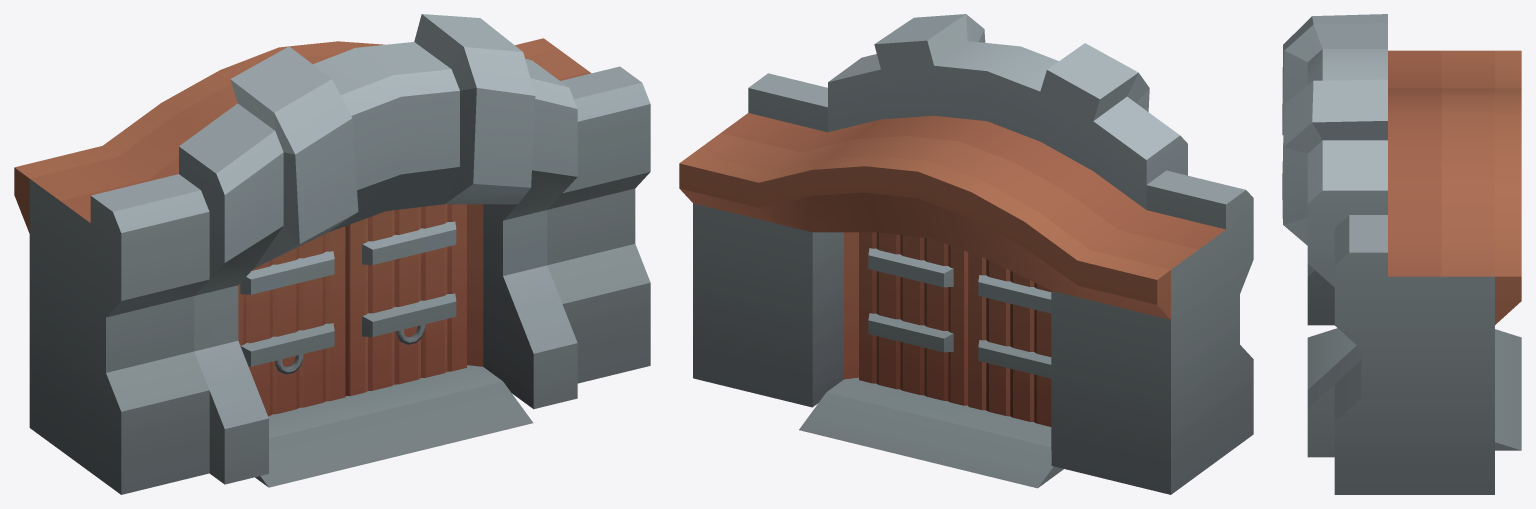
File: kay-muralha-portao.gltf
The picture shows the model from 3 angles, left to right: view 1: azimuth 30°, elevation 25°; view 2: azimuth 150°, elevation 25°; view 3: azimuth 270°, elevation 25°; orthographic projection. The views are drawn at different scales.
Visible parts, largest first — view 1: wall_straight_gate; view 2: wall_straight_gate; view 3: wall_straight_gate.
Part boxes in pixels (bbox=[...]): wall_straight_gate: bbox=[14, 14, 650, 494]; wall_straight_gate: bbox=[679, 14, 1253, 494]; wall_straight_gate: bbox=[1282, 14, 1521, 494].
Bounding box in the file's own units: 10 × 7.07 × 4.48.
Materials: 1 (1 with a texture image).
